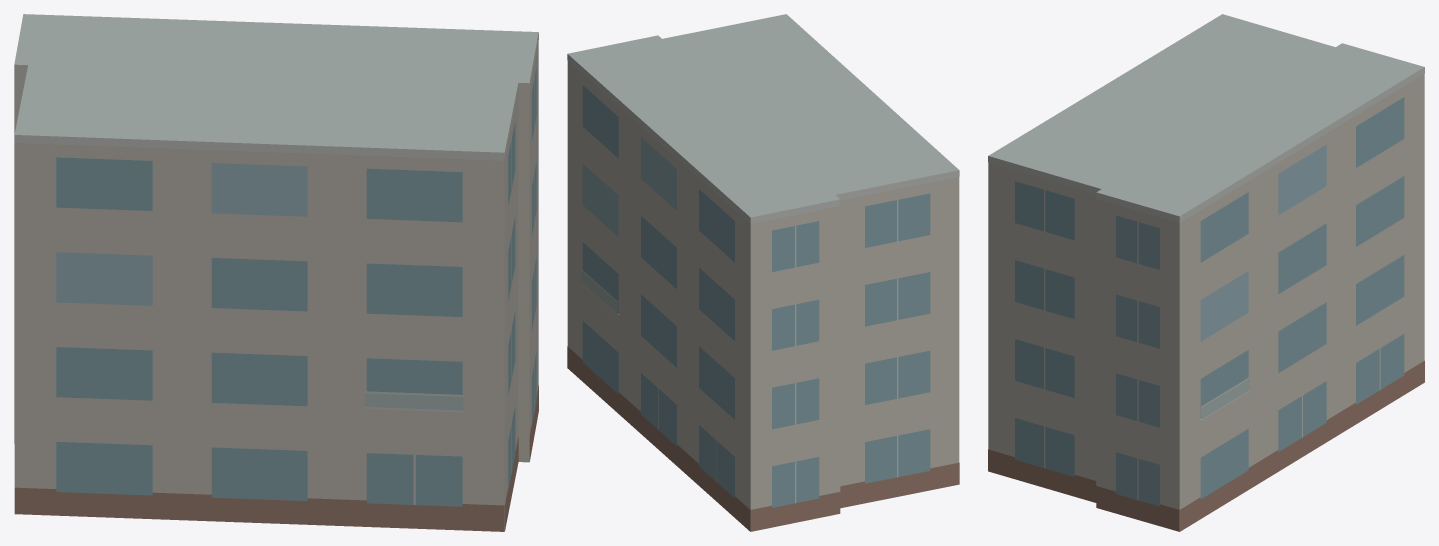
The model's file is survey-upis-32755244.glb.
The picture shows the model from 3 angles, left to right: view 1: azimuth 30°, elevation 25°; view 2: azimuth 150°, elevation 25°; view 3: azimuth 270°, elevation 25°; orthographic projection. The views are drawn at different scales.
Visible parts, largest first — view 1: survey-upis-32755244.tmp; view 2: survey-upis-32755244.tmp; view 3: survey-upis-32755244.tmp.
Part boxes in pixels (left/top/right/bottom): survey-upis-32755244.tmp: left=14, top=14, right=538, bottom=531; survey-upis-32755244.tmp: left=567, top=14, right=959, bottom=531; survey-upis-32755244.tmp: left=988, top=14, right=1424, bottom=531.
Bounding box in the file's own units: 16.04 × 11.65 × 14.62.
